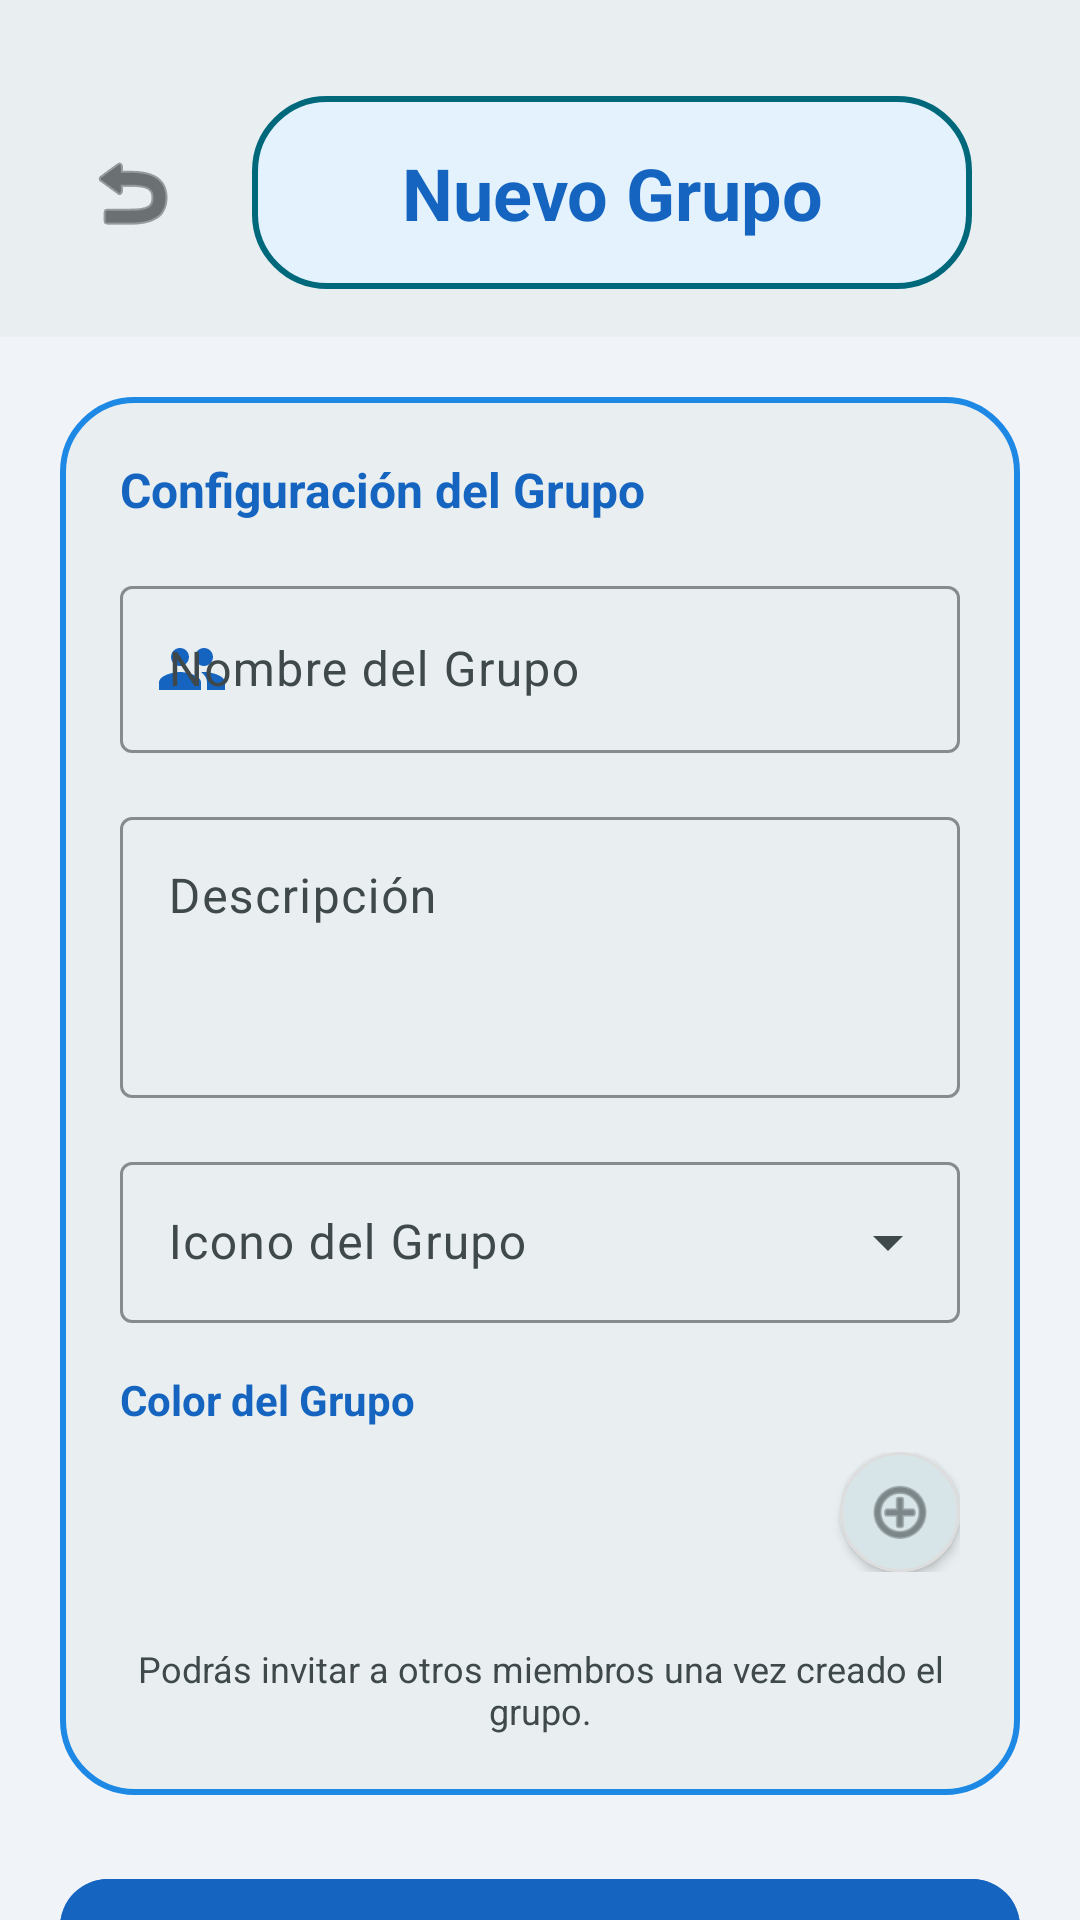

Icons on this 1080 × 1920 Android screen, each with the point to tap as (x,y):
Color personalizado: (900,1512)
revert: (133,193)
